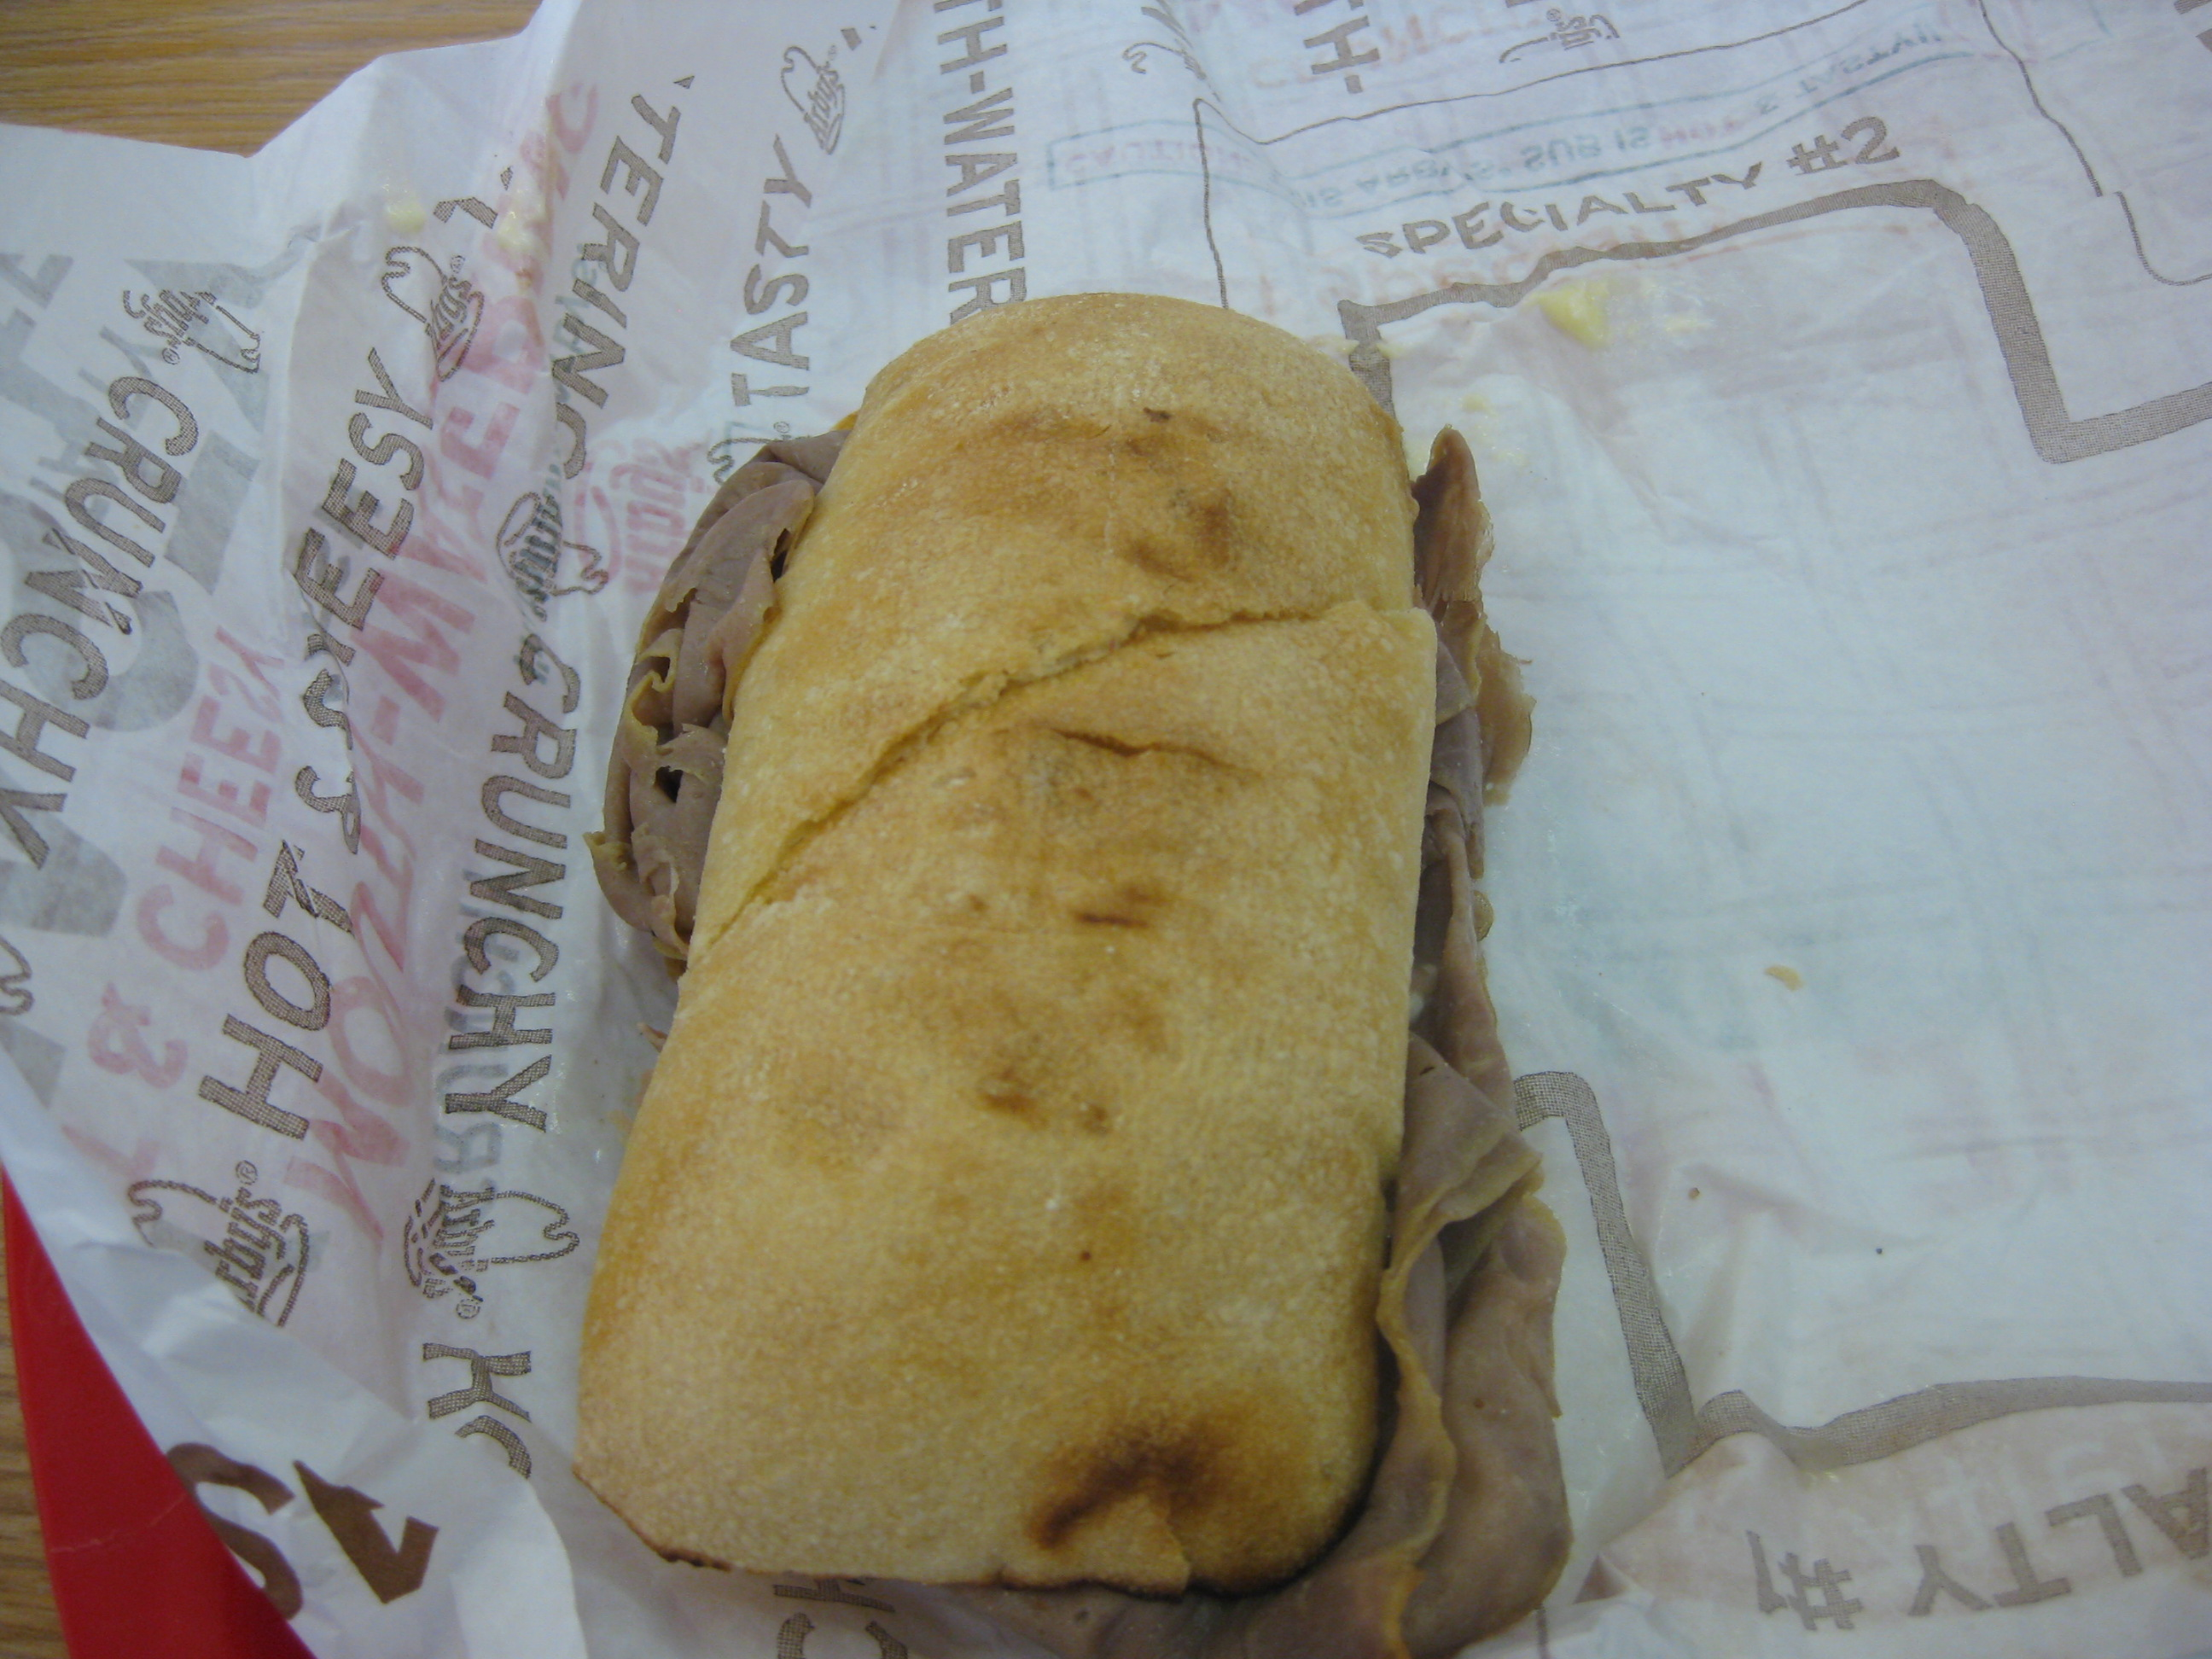sub: (524, 221, 1747, 1653)
